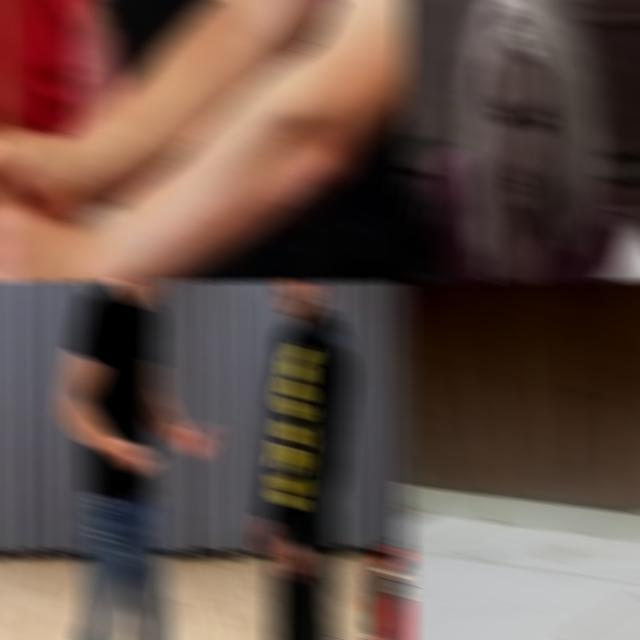Knife_Handle: (112, 439, 162, 477)
